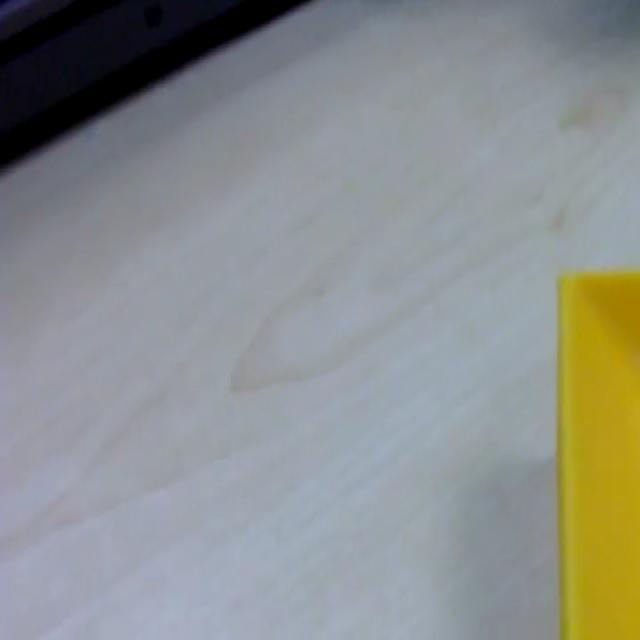yellow_block: (555, 267, 639, 636)
